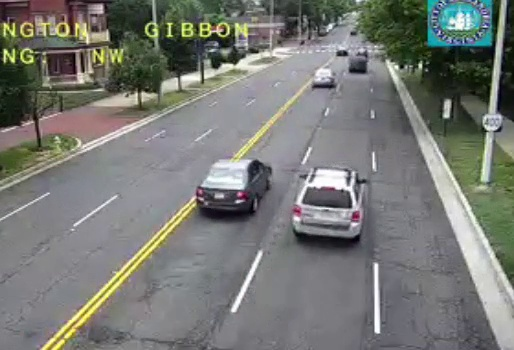car: (291, 166, 364, 241), (195, 159, 272, 211), (312, 68, 335, 88)
